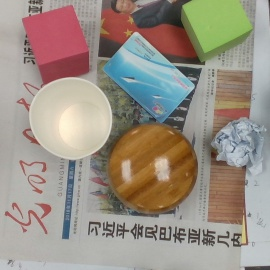card: (103, 31, 195, 122)
chess: (110, 124, 198, 215)
cup: (29, 78, 111, 162)
